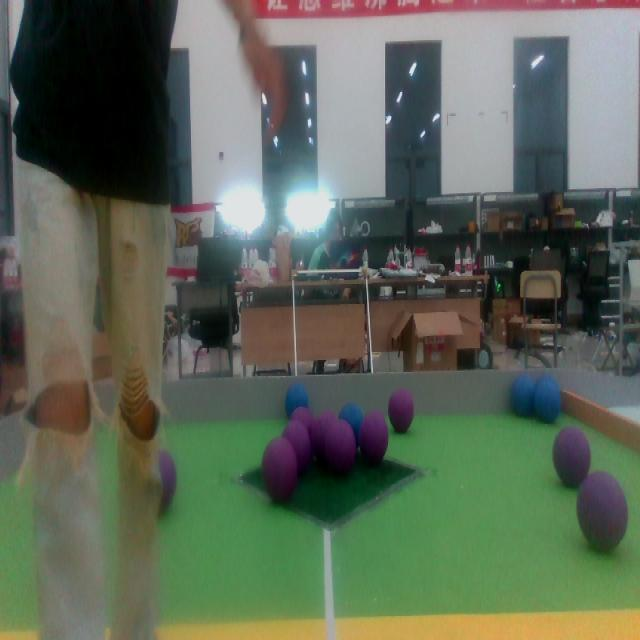blue: (338, 401, 364, 449), (512, 376, 538, 420), (536, 376, 560, 420), (284, 384, 309, 419)
invalid: (573, 464, 629, 560), (550, 421, 587, 485), (263, 438, 298, 500), (150, 443, 178, 516), (360, 407, 389, 471), (326, 411, 354, 472), (387, 387, 416, 440), (310, 408, 336, 458), (285, 420, 308, 470), (292, 402, 310, 428)
